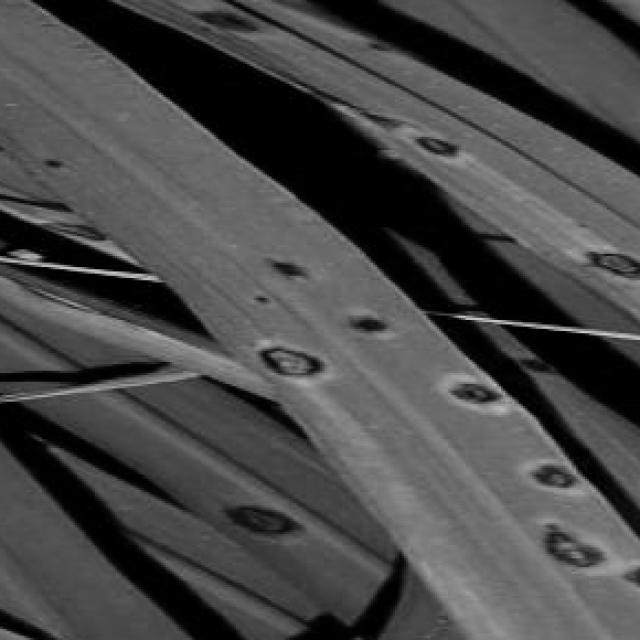Brown_Spot: (523, 503, 611, 600), (204, 494, 316, 554), (510, 444, 598, 520), (424, 366, 526, 431), (238, 331, 342, 393), (551, 234, 640, 303), (172, 0, 284, 53), (324, 300, 412, 353), (400, 126, 470, 170), (258, 248, 318, 296), (609, 538, 640, 624), (31, 152, 73, 178), (358, 38, 398, 62), (240, 292, 276, 318)
